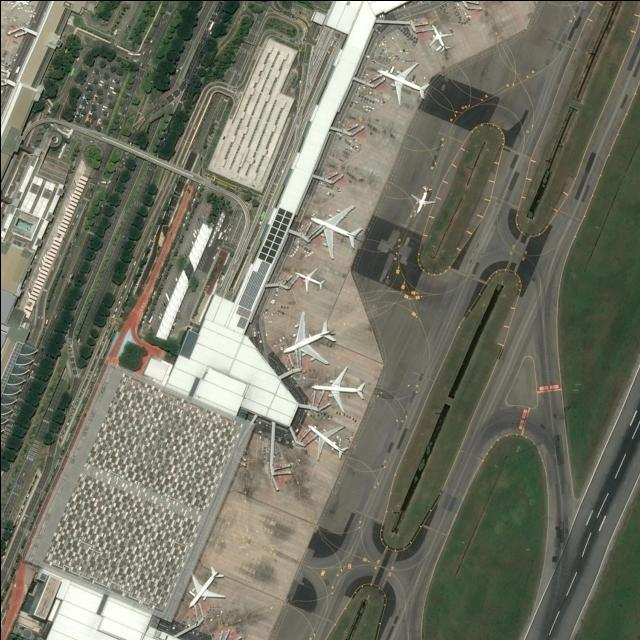Aircraft: (280, 312, 338, 364), (312, 206, 362, 259), (312, 368, 366, 414), (376, 64, 429, 104), (308, 422, 349, 462), (190, 568, 228, 610), (294, 267, 325, 293), (412, 185, 436, 215), (429, 23, 452, 52), (3, 0, 29, 9)
